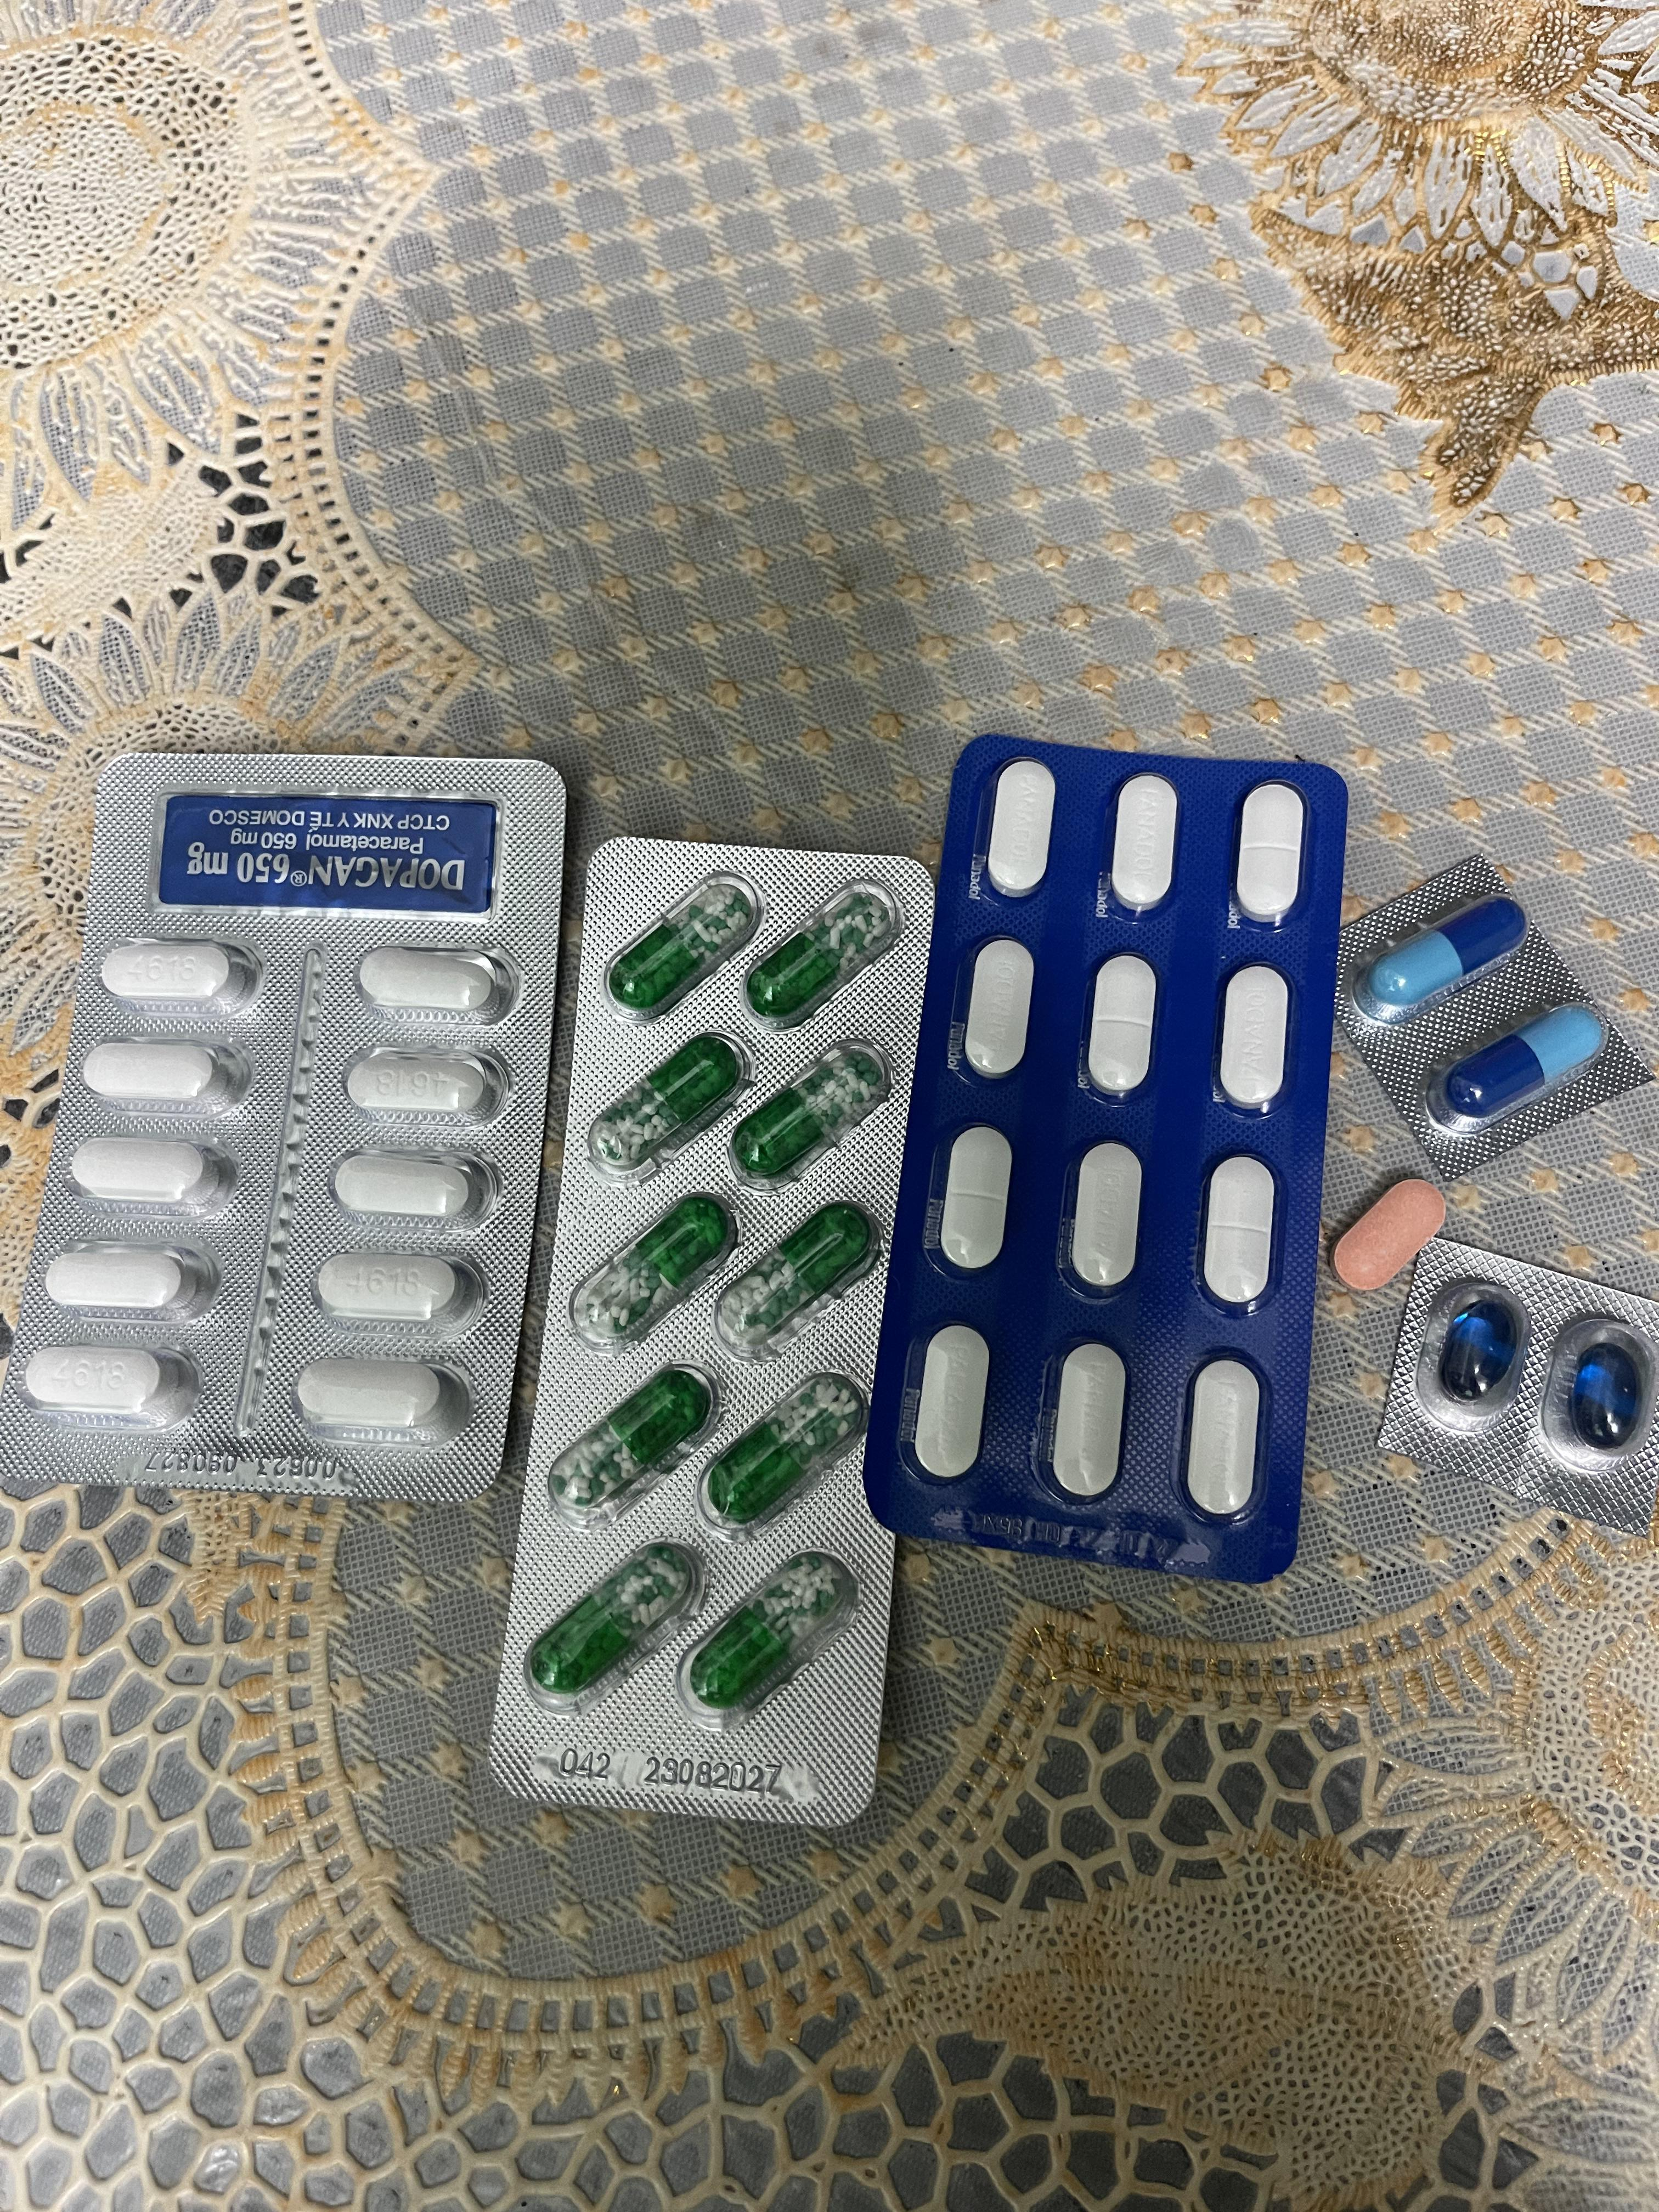Lincomyxin_500mg: (1438, 1301, 1520, 1402), (1570, 1343, 1643, 1449)
Loratadine_10mg: (1331, 1176, 1446, 1292)
Paracetamol_350mg: (1180, 1350, 1272, 1527), (1039, 1336, 1133, 1510), (911, 1327, 990, 1486), (1201, 1155, 1279, 1308), (1066, 1143, 1143, 1294), (1215, 967, 1291, 1115), (938, 1125, 1012, 1273), (962, 941, 1035, 1083), (1086, 956, 1157, 1099), (1236, 786, 1305, 925), (1108, 775, 1178, 914), (985, 763, 1056, 897)
Paracetamol_500mg: (295, 1355, 469, 1444), (343, 1049, 509, 1129), (68, 1137, 230, 1209), (333, 1150, 490, 1221), (357, 946, 509, 1017), (23, 1343, 171, 1414), (78, 1040, 235, 1106), (45, 1244, 193, 1313), (317, 1254, 462, 1320), (101, 941, 239, 1005)
Paracetamol_650mg: (544, 1360, 720, 1524), (568, 1191, 739, 1350), (532, 1541, 699, 1695), (714, 1204, 875, 1360), (587, 1029, 753, 1181), (688, 1555, 849, 1710), (706, 1379, 861, 1524), (744, 880, 892, 1029), (734, 1047, 890, 1188), (610, 881, 755, 1012)
pill: (1443, 1003, 1607, 1122), (1364, 894, 1523, 1015)
